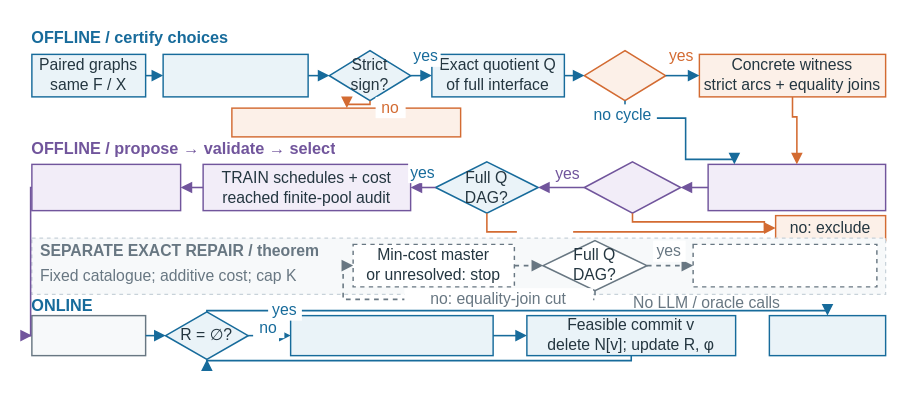
This 919x393 diagram has some shape labels left out. The shapes that lost their labels are listed below. From the top down, each one's box as (x1, y1, x2, y2) in pixels, then its label:
(162, 53, 308, 97): Sound Δ bounds same-G cancel
(583, 49, 666, 101): Cycle?
(230, 107, 461, 137): Unknown / tie: abstain
(30, 163, 181, 211): Freeze φ, h and execution kernel
(583, 160, 681, 213): Typed valid?
(707, 163, 886, 211): Offline LLM proposals typed features + rules
(516, 216, 572, 238): cycle
(692, 243, 877, 287): Repaired interface DAG
(30, 314, 146, 356): Current graph residual R
(289, 314, 493, 356): Demanded typed scores arg max h(φ(v))
(768, 314, 886, 356): Feasible schedule
